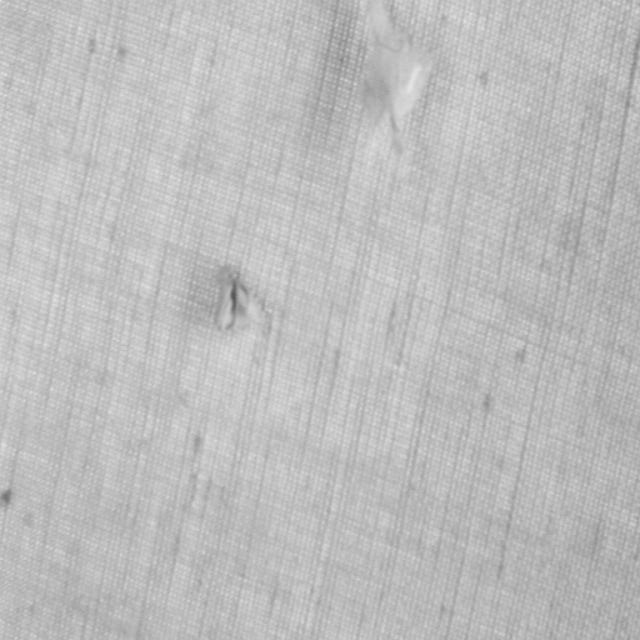objects: (365, 25, 436, 139), (212, 262, 253, 336)
